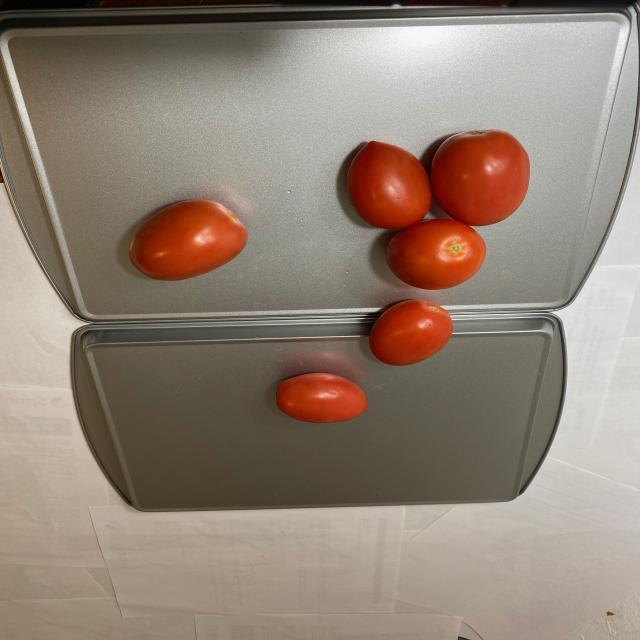tomato: (341, 124, 528, 292), (271, 296, 455, 425), (120, 197, 247, 284)
